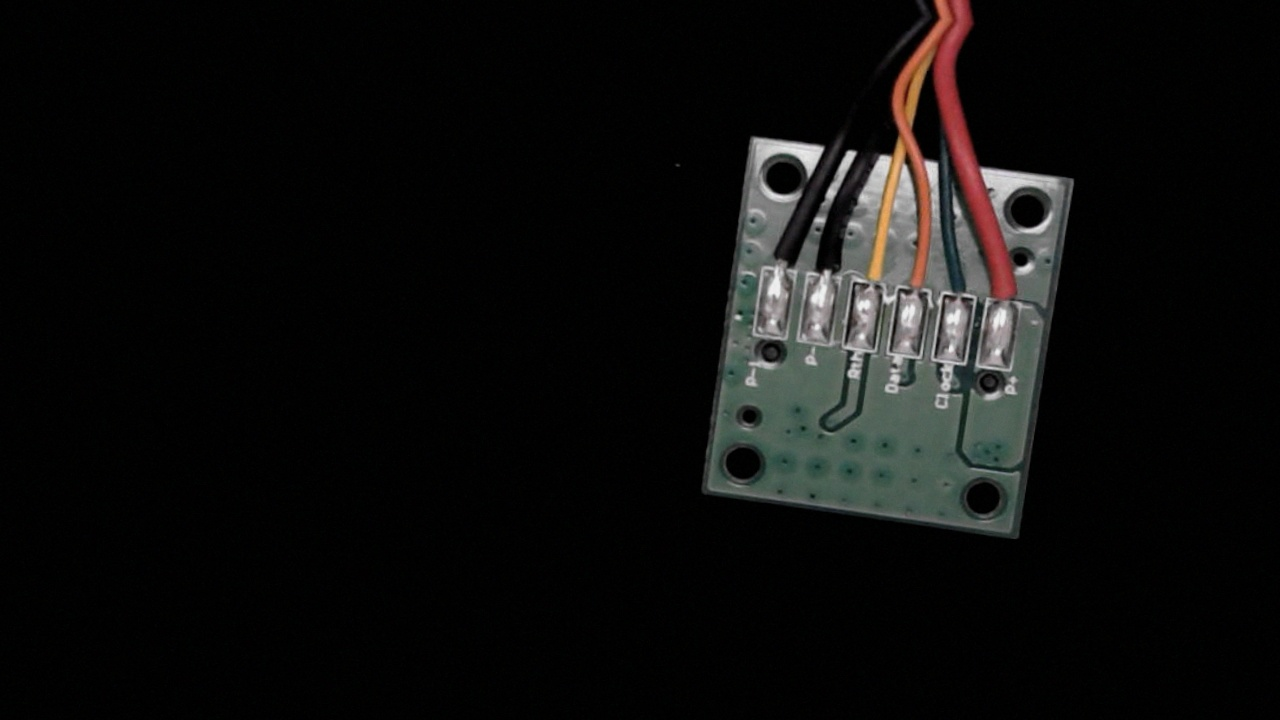Black: (802, 225, 850, 297)
Black1: (755, 213, 805, 293)
Green: (941, 246, 982, 315)
Orange: (894, 237, 940, 311)
Red: (980, 240, 1033, 324)
Yellow: (846, 217, 899, 305)
